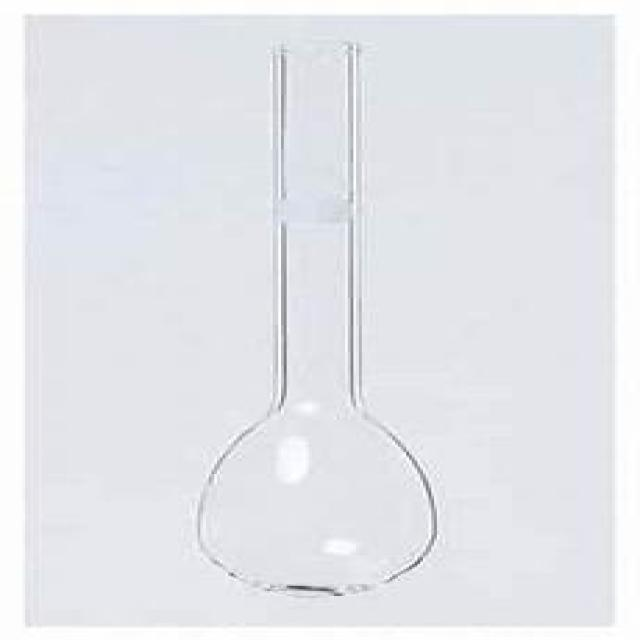Volumetric flask: (195, 39, 438, 597)
